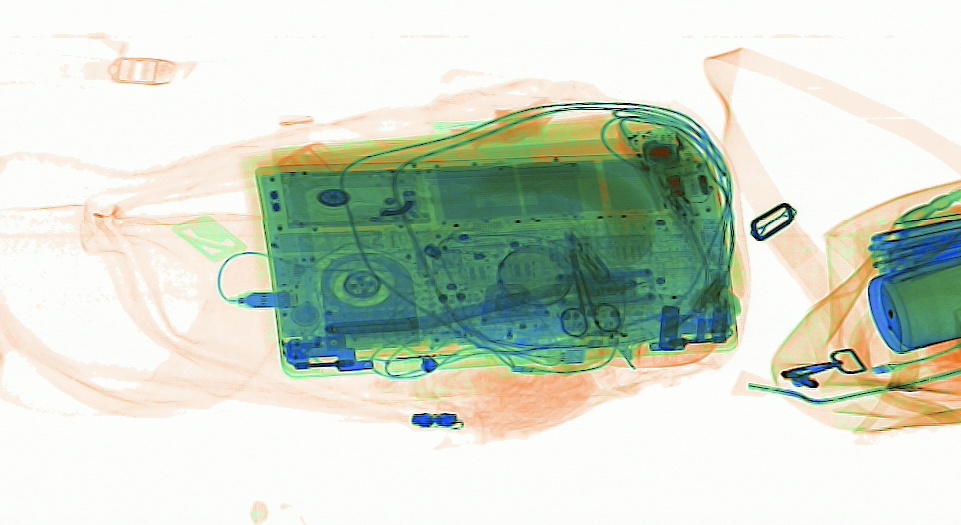scissors: (553, 229, 623, 338)
